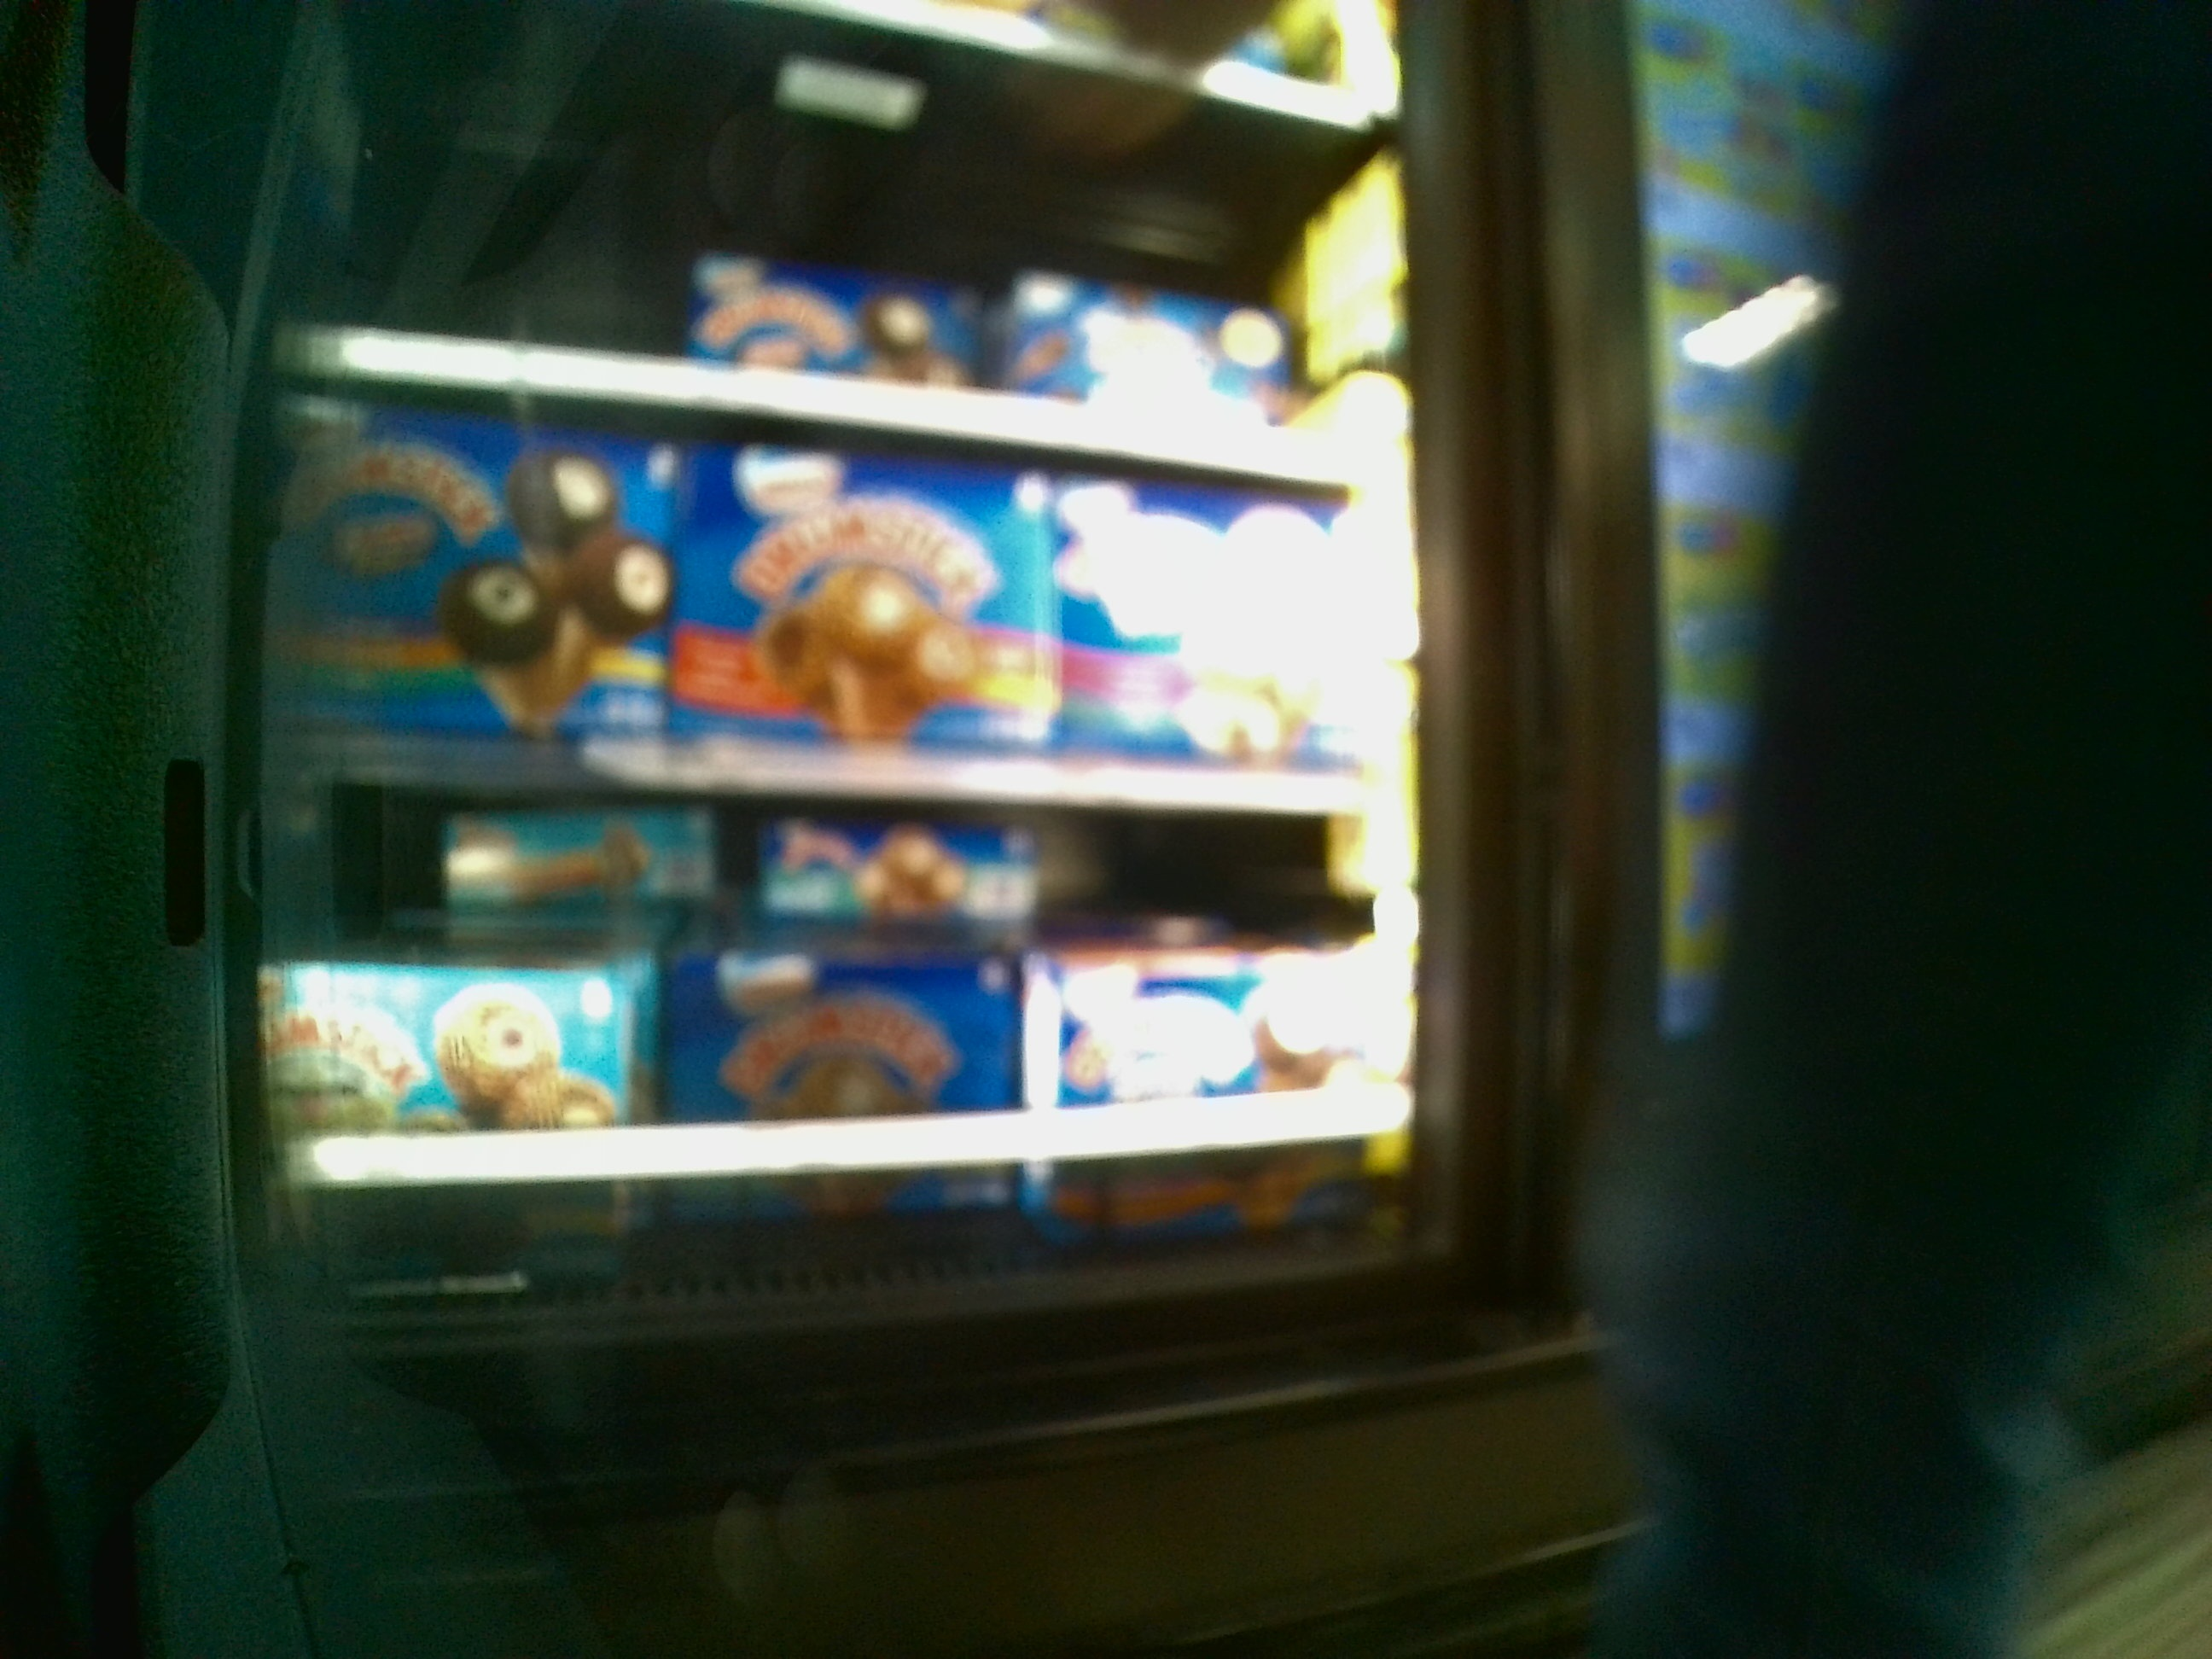shelf: (287, 796, 1413, 1290), (270, 464, 1407, 796)
